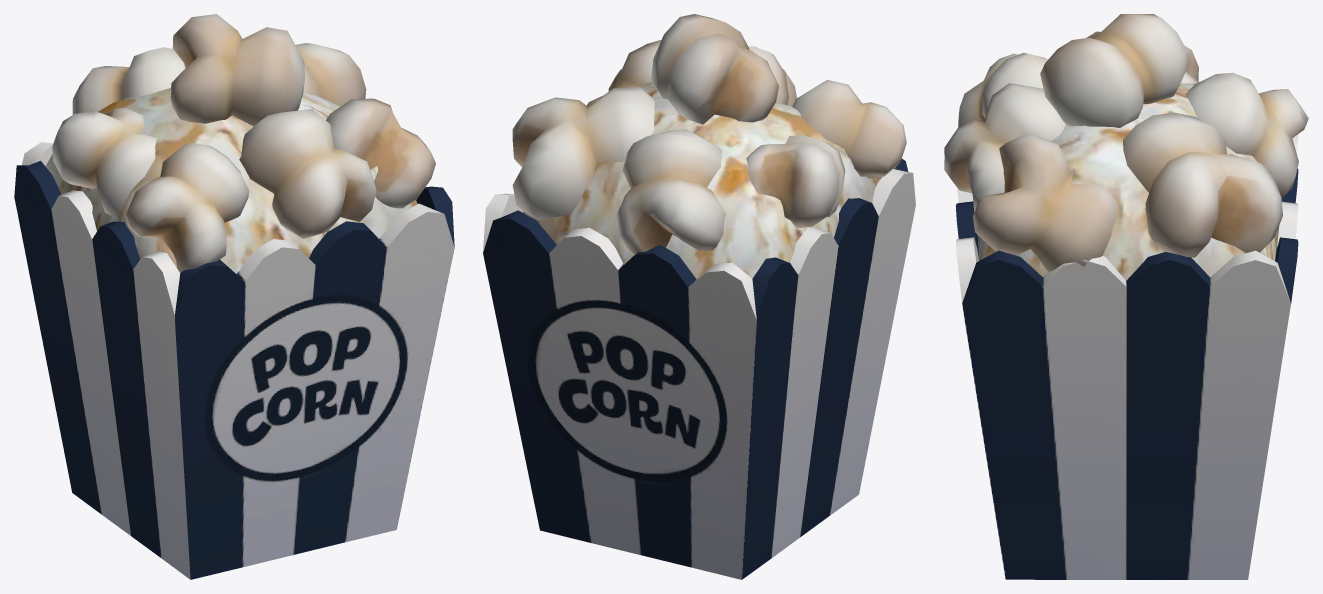
File: 0-popcorn_black.fbx
3 renders of one model, left to right at view 1: azimuth 30°, elevation 25°; view 2: azimuth 150°, elevation 25°; view 3: azimuth 270°, elevation 25°, orthographic. The views are drawn at different scales.
Parts seen in each view (by area): view 1: 0-popcorn_black; view 2: 0-popcorn_black; view 3: 0-popcorn_black.
Boxes of the visible parts, left/top/right/bottom form: 0-popcorn_black: left=14, top=14, right=454, bottom=579; 0-popcorn_black: left=483, top=14, right=915, bottom=579; 0-popcorn_black: left=944, top=14, right=1308, bottom=579.
Bounding box in the file's own units: 64.07 × 96.59 × 63.32.
